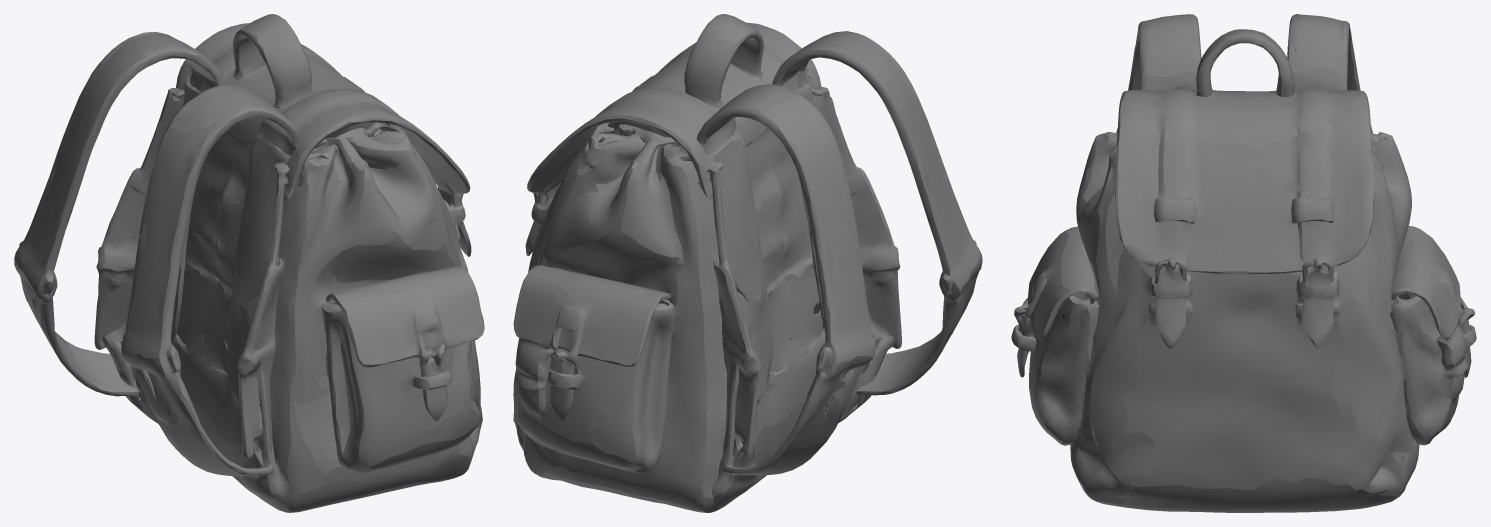
File: completion_backpack_1.glb
3 renders of one model, left to right at view 1: azimuth 30°, elevation 25°; view 2: azimuth 150°, elevation 25°; view 3: azimuth 270°, elevation 25°, orthographic. The views are drawn at different scales.
Parts seen in each view (by area): view 1: geometry_0; view 2: geometry_0; view 3: geometry_0.
Part boxes in pixels (left/top/right/bottom): geometry_0: left=14, top=14, right=484, bottom=512; geometry_0: left=513, top=14, right=982, bottom=512; geometry_0: left=1011, top=14, right=1476, bottom=512.
Bounding box in the file's own units: 0.8382 × 1 × 0.9803.
1 material, 1 textured.
